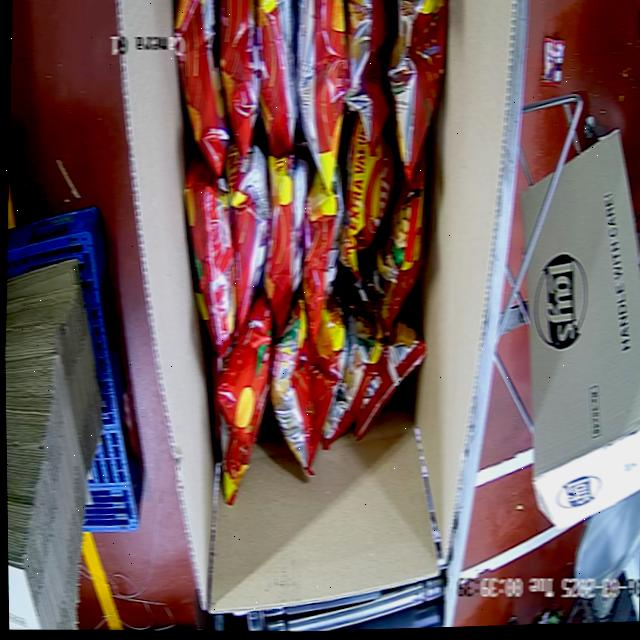MASALA: (154, 0, 455, 513)
